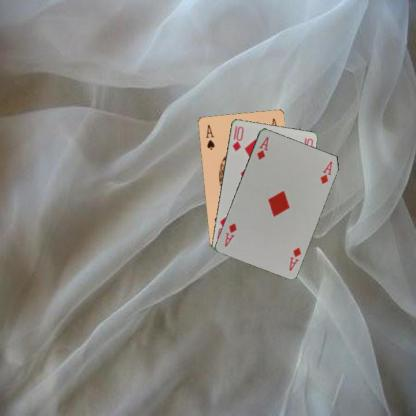10d: (230, 123, 244, 153)
Ad: (254, 134, 270, 160), (287, 245, 302, 272)
As: (203, 122, 215, 151)
